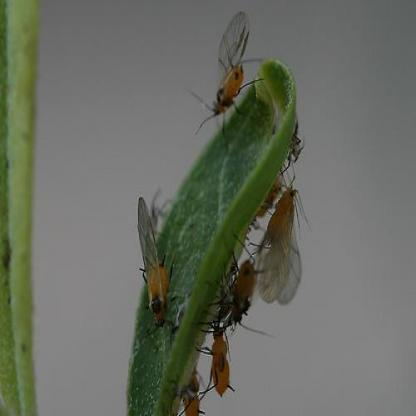aphid: (199, 6, 264, 141), (256, 172, 315, 306), (130, 196, 186, 328), (204, 308, 241, 404), (222, 251, 261, 327), (178, 360, 210, 416)
